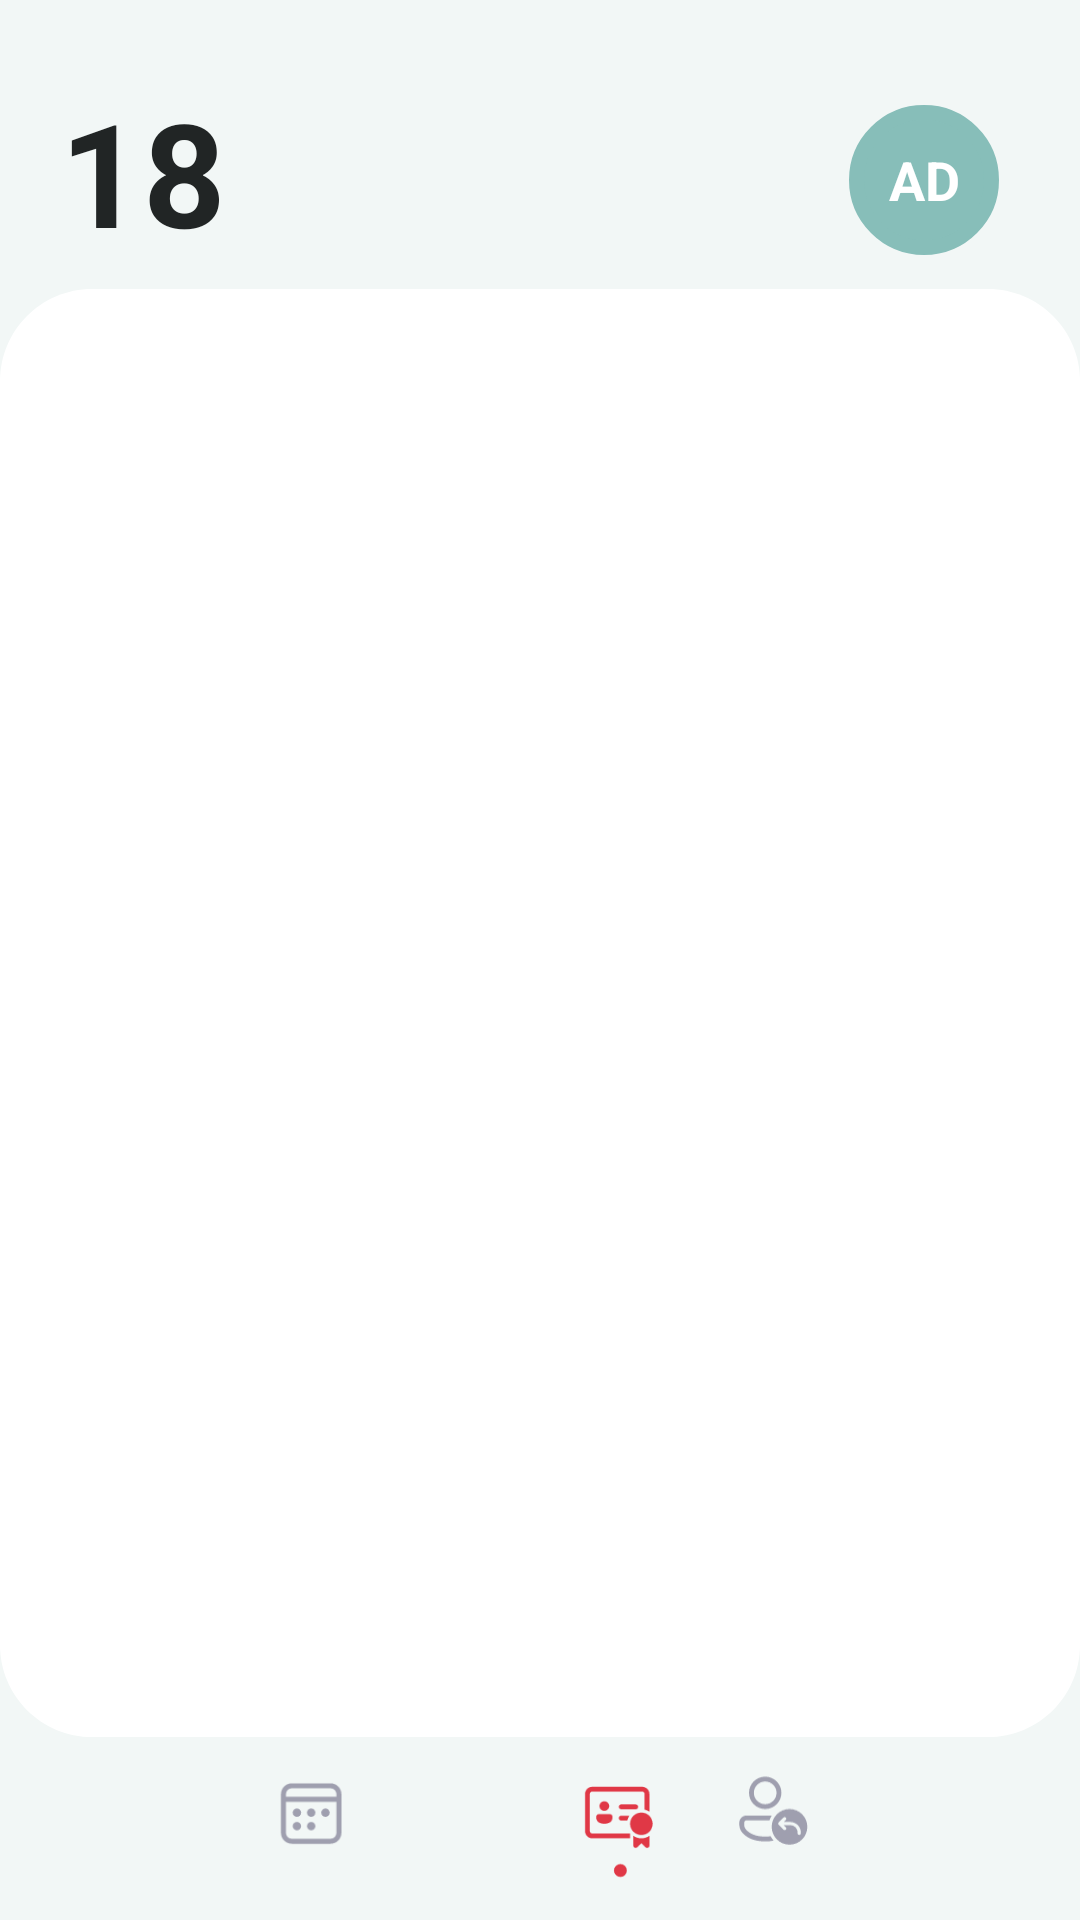

Named icons in this screenshot (1080x1920) and their centers, [x,y]:
calendar: [311,1813]
deconnection: [773,1810]
